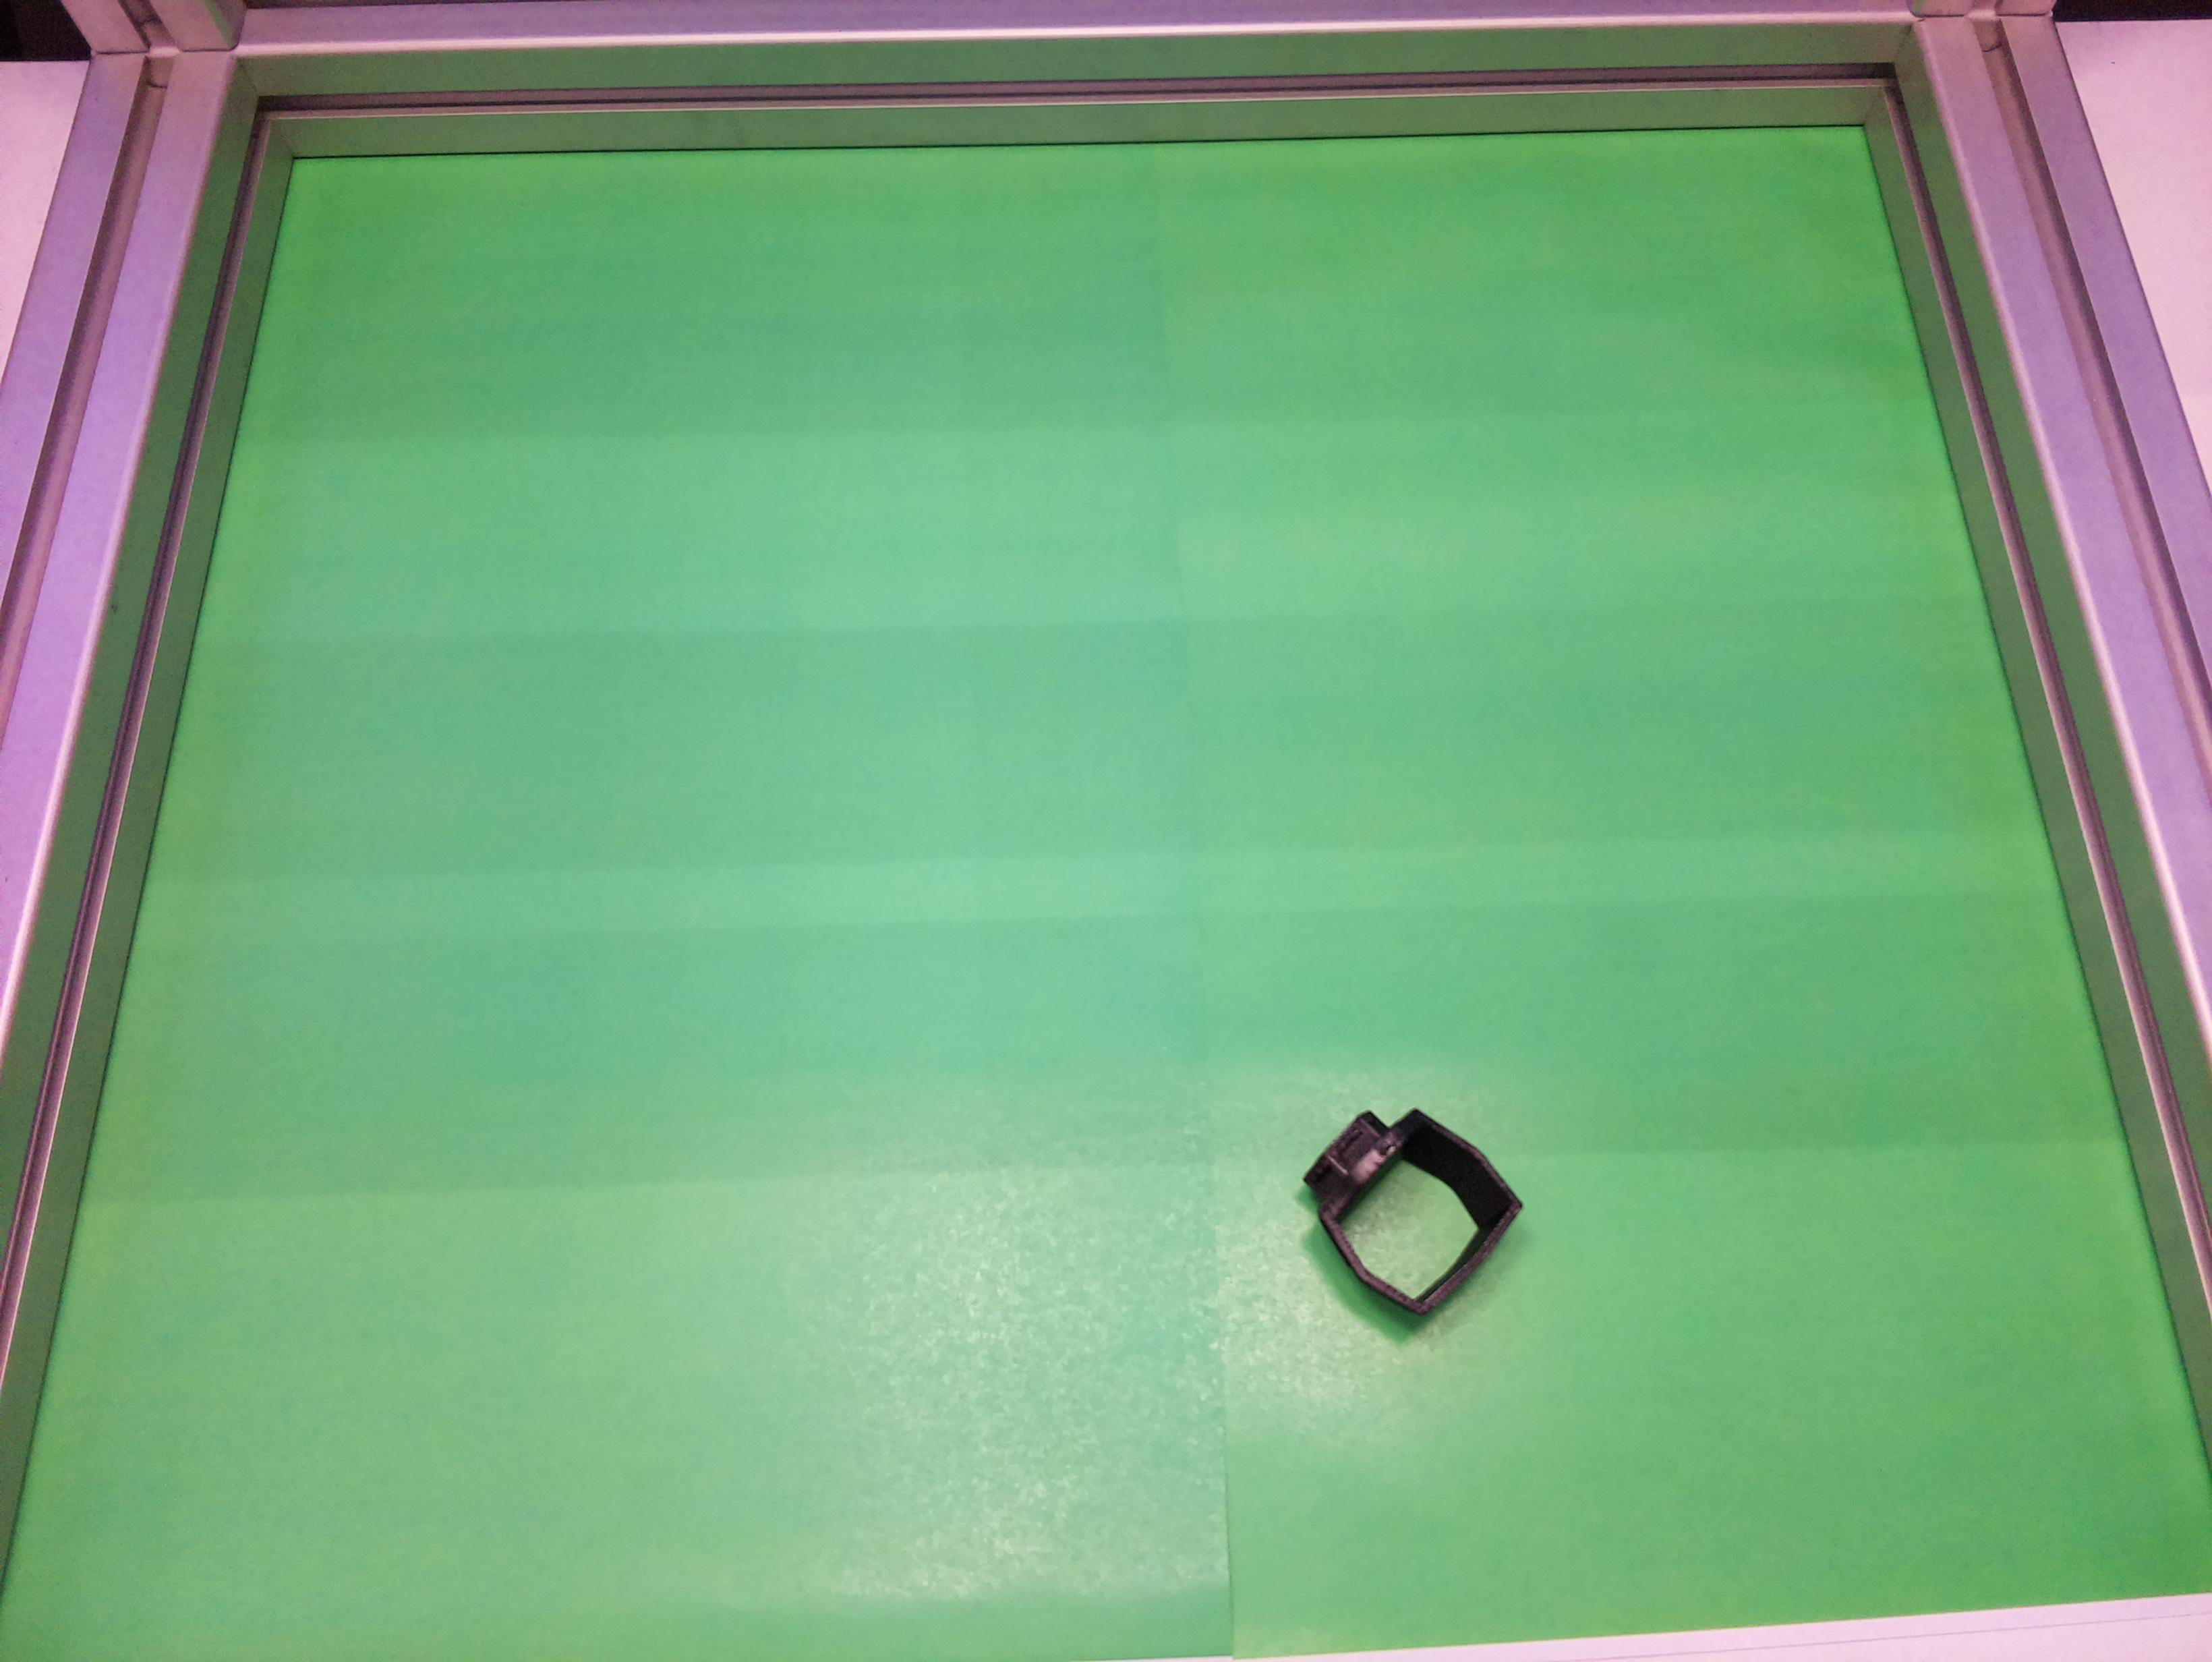scissor_holder: (1273, 1072, 1542, 1341)
